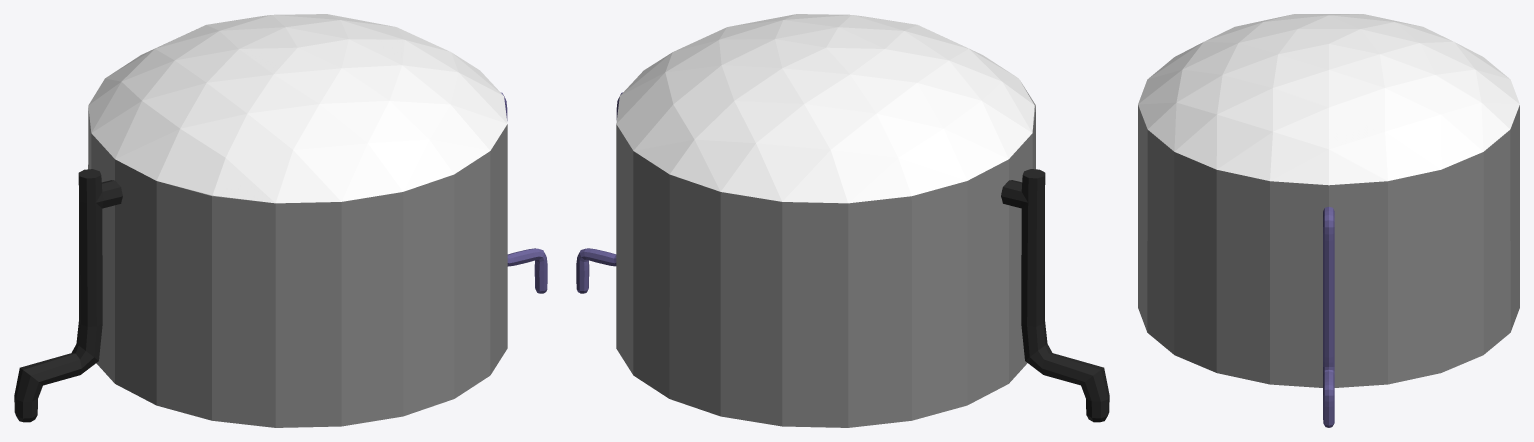
The model's file is WaterTank.fbx.
3 renders of one model, left to right at view 1: azimuth 30°, elevation 25°; view 2: azimuth 150°, elevation 25°; view 3: azimuth 270°, elevation 25°, orthographic. The views are drawn at different scales.
Parts seen in each view (by area): view 1: Plane; view 2: Plane; view 3: Plane.
Part boxes in pixels (x1,y1,x2,y2): Plane: (14, 14, 547, 427); Plane: (576, 14, 1109, 427); Plane: (1138, 14, 1519, 427).
Bounding box in the file's own units: 291 × 161 × 200.
